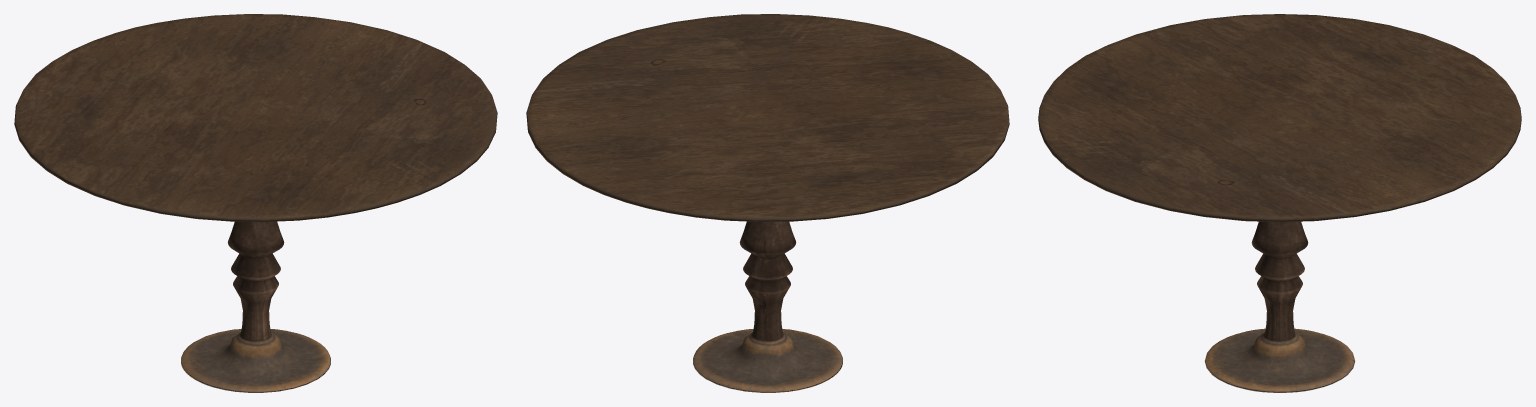
Rendered from table_bar.obj.
3 views of the same model, side by side, from view 1: azimuth 30°, elevation 25°; view 2: azimuth 150°, elevation 25°; view 3: azimuth 270°, elevation 25° (orthographic).
Parts seen in each view (by area): view 1: Mesh_0.001_Mesh_0.001_Default; view 2: Mesh_0.001_Mesh_0.001_Default; view 3: Mesh_0.001_Mesh_0.001_Default.
Boxes of the visible parts, box(x1,y1,x2,y2) form: Mesh_0.001_Mesh_0.001_Default: box(14, 14, 497, 392); Mesh_0.001_Mesh_0.001_Default: box(526, 14, 1009, 392); Mesh_0.001_Mesh_0.001_Default: box(1038, 14, 1521, 392).
Bounding box in the file's own units: 1.22 × 0.6835 × 1.22.
1 material, 1 textured.
